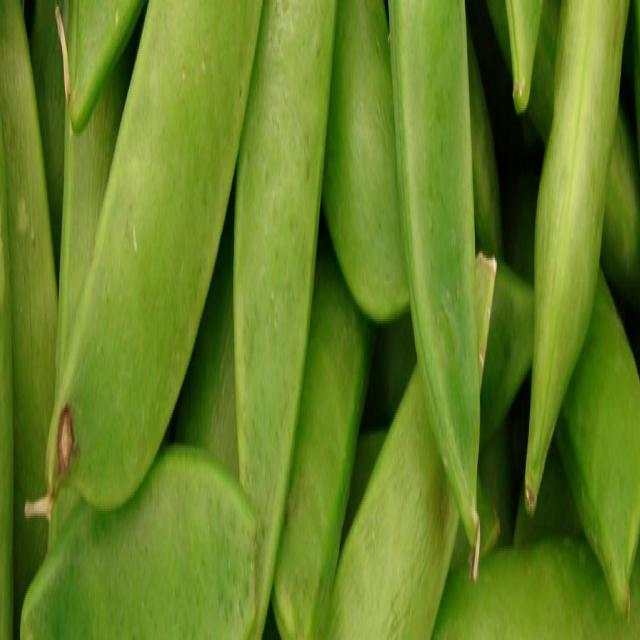Peas: (38, 0, 264, 509), (325, 248, 499, 622)
